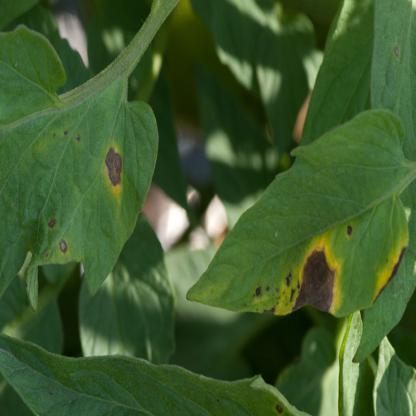Potato leaf late blight: (182, 109, 410, 318), (3, 21, 162, 296)
